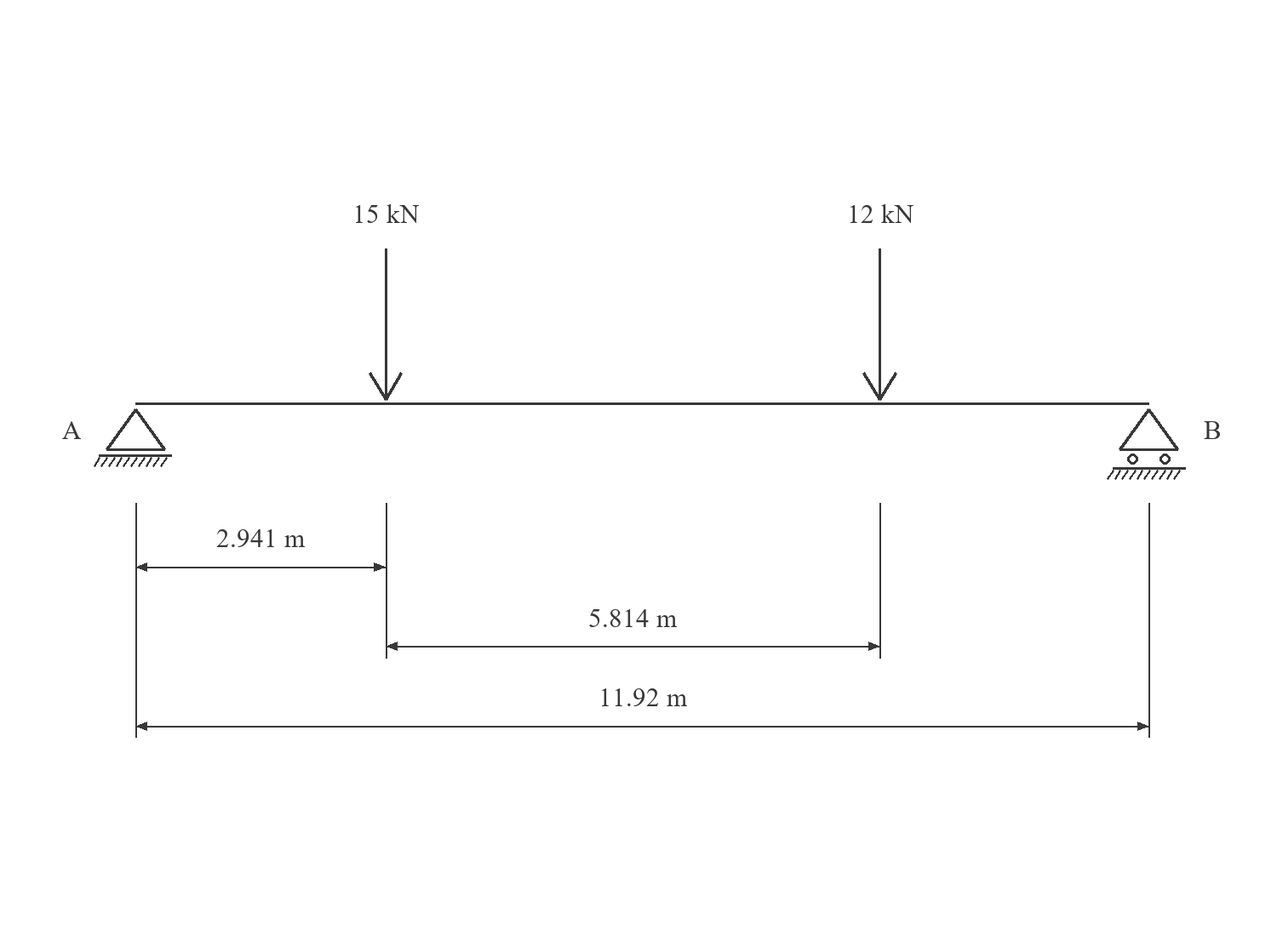pin_support: (94, 408, 172, 467)
point_load: (862, 248, 897, 401), (369, 248, 403, 401)
roller_support: (1107, 408, 1186, 480)
